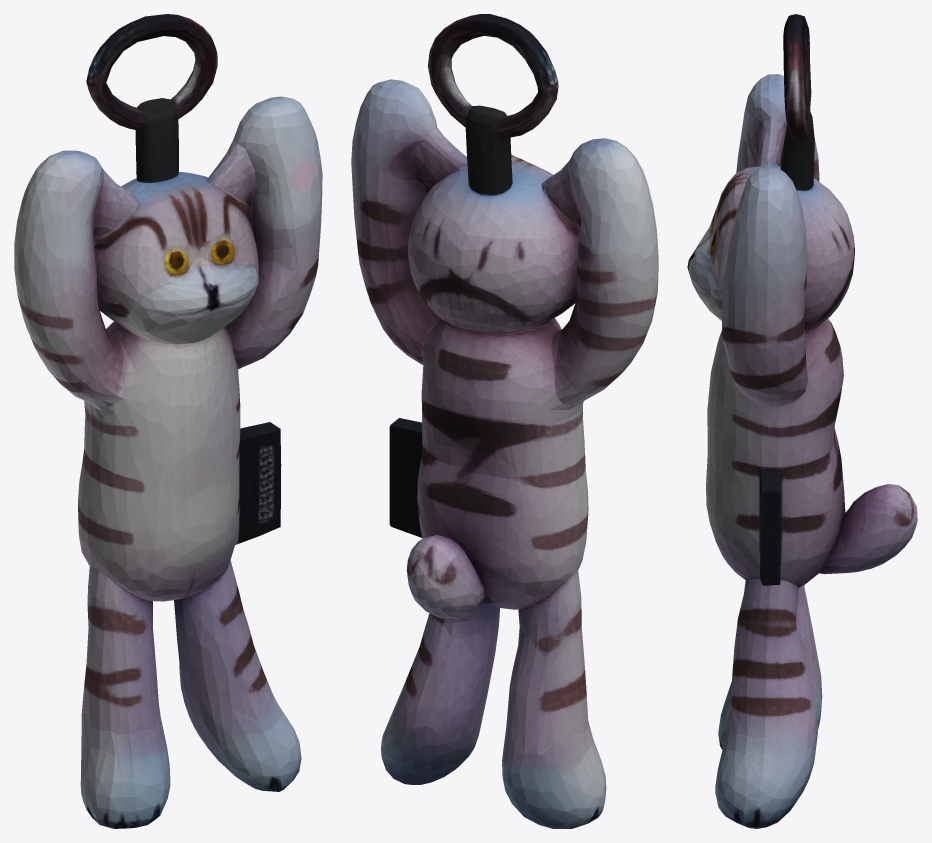
The model's file is 07-虎斑貓-虎醬.glb.
The picture shows the model from 3 angles, left to right: view 1: azimuth 30°, elevation 25°; view 2: azimuth 150°, elevation 25°; view 3: azimuth 270°, elevation 25°; orthographic projection. The views are drawn at different scales.
Parts seen in each view (by area): view 1: world; view 2: world; view 3: world.
Part boxes in pixels (x1,y1,x2,y2): world: (14, 14, 322, 828); world: (351, 14, 658, 828); world: (687, 14, 917, 828).
Bounding box in the file's own units: 0.3936 × 1 × 0.2752.
1 material, 1 textured.
